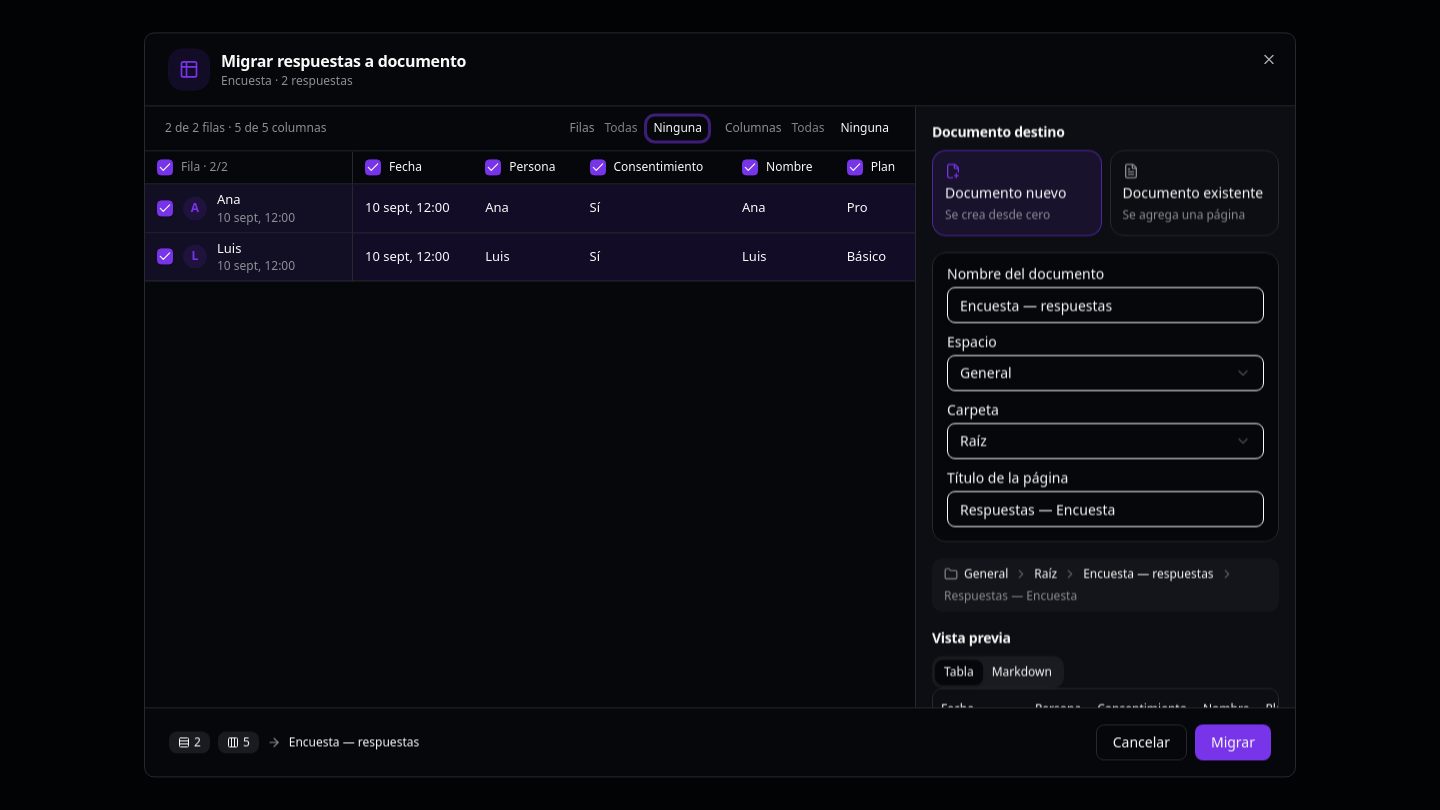
Test: MigrarRespuestasDialog › quitar una columna la excluye de la vista previa
What coordinates should you click on to do the following:
click the checkbox named "Columna Plan"
I would click on:
 (855, 167)
Its box is 847,159 -> 863,175.
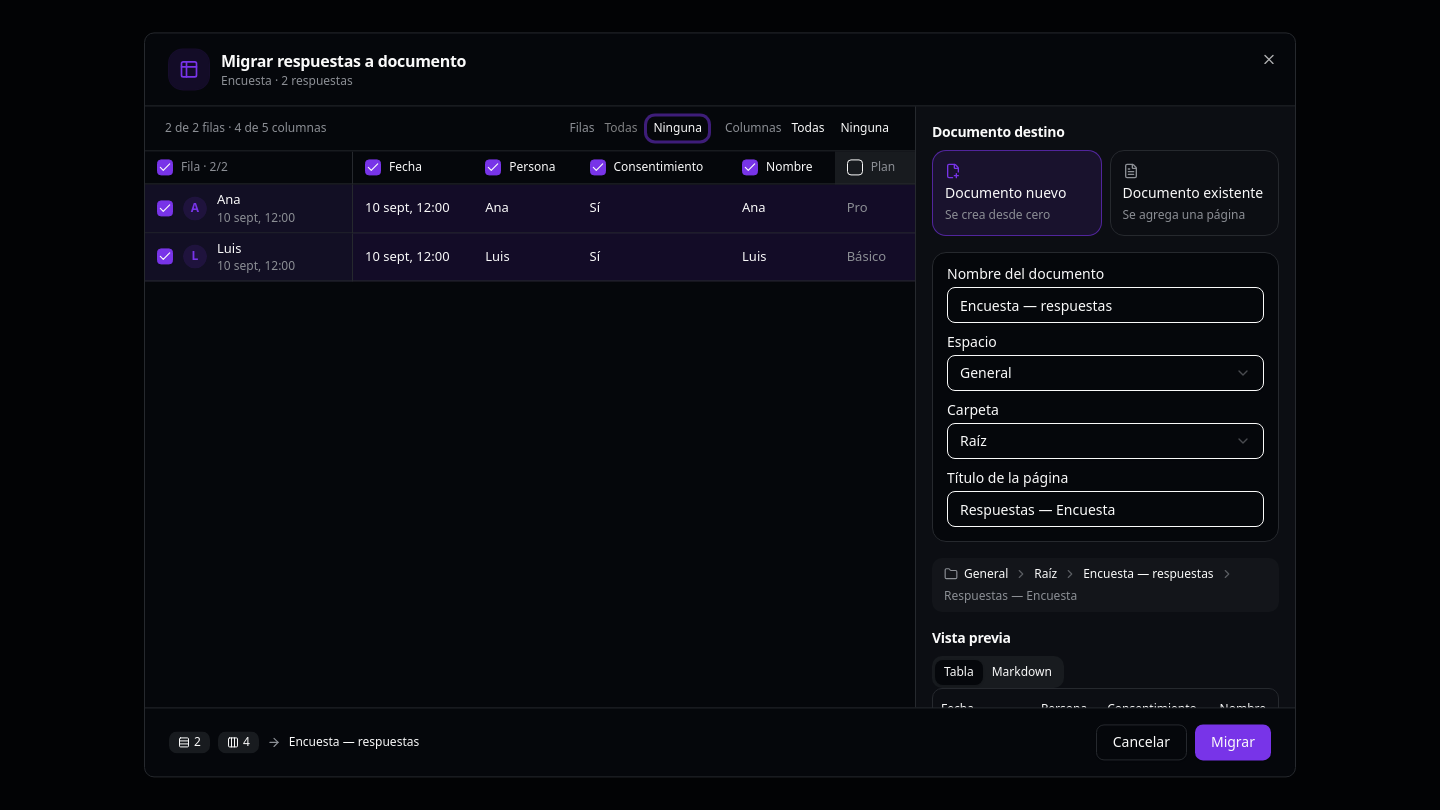
Expected: the text "2 de 2 filas · 4 de 5 columnas" is shown, 165,120 -> 326,136
